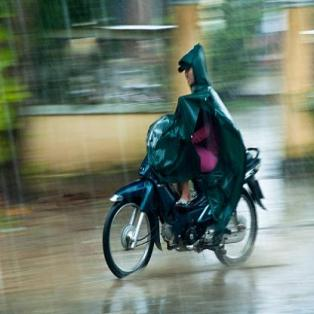Motocicleta: (95, 109, 270, 276)
